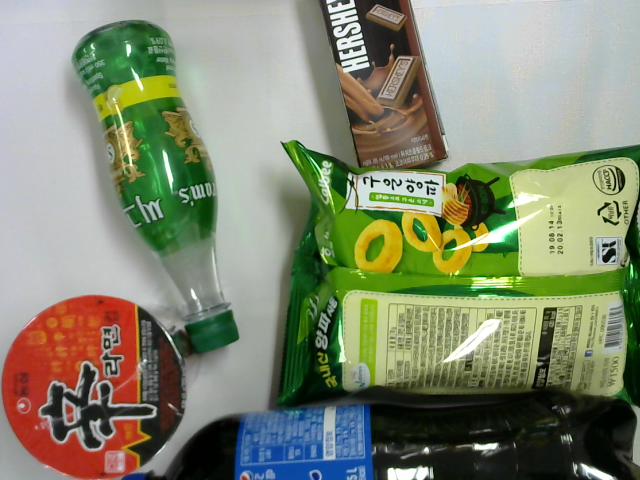Grilled_Onions: (275, 139, 640, 408)
Hush_Choco_Drink: (319, 1, 453, 172)
Pepsi_Cola_1.5L: (120, 405, 640, 480)
Seagram_Lemon_Carbonated_Water: (71, 18, 245, 359)
Sinramen_small: (3, 293, 189, 480)
